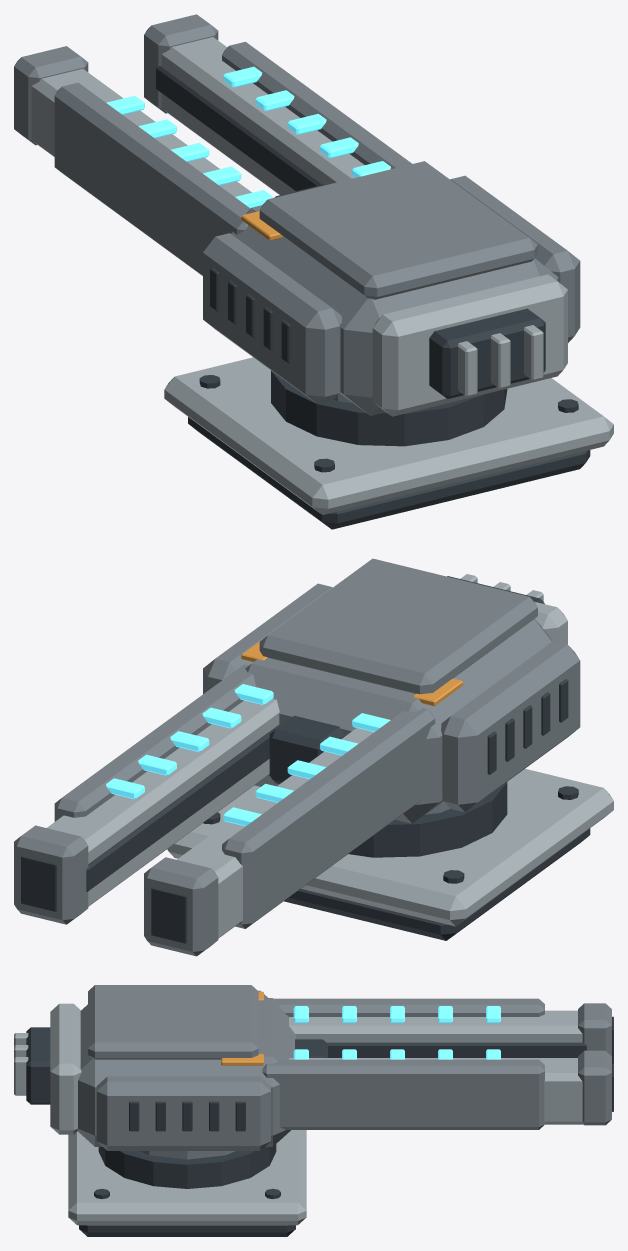
File: railgun_mount.glb
3 renders of one model, top to bottom at view 1: azimuth 30°, elevation 25°; view 2: azimuth 150°, elevation 25°; view 3: azimuth 270°, elevation 25°, orthographic. The views are drawn at different scales.
Parts seen in each view (by area): view 1: Armor, Edge steel, Recess, Coil; view 2: Armor, Edge steel, Recess, Coil, Amber; view 3: Armor, Edge steel, Recess, Coil, Amber.
Boxes of the visible parts, x1,y1,x2,y2 form: Armor: (14, 14, 580, 415); Edge steel: (31, 37, 613, 514); Recess: (156, 66, 590, 529); Coil: (106, 66, 390, 208); Armor: (14, 558, 580, 956); Edge steel: (47, 574, 613, 938); Recess: (21, 576, 590, 943); Coil: (106, 684, 390, 826); Amber: (241, 639, 462, 706); Armor: (78, 985, 611, 1159); Edge steel: (14, 1003, 582, 1225); Recess: (26, 1016, 613, 1236); Coil: (293, 1006, 500, 1059); Amber: (221, 991, 263, 1065).
Size of the model in its own units: 1.46 by 1.11 by 3.37.
